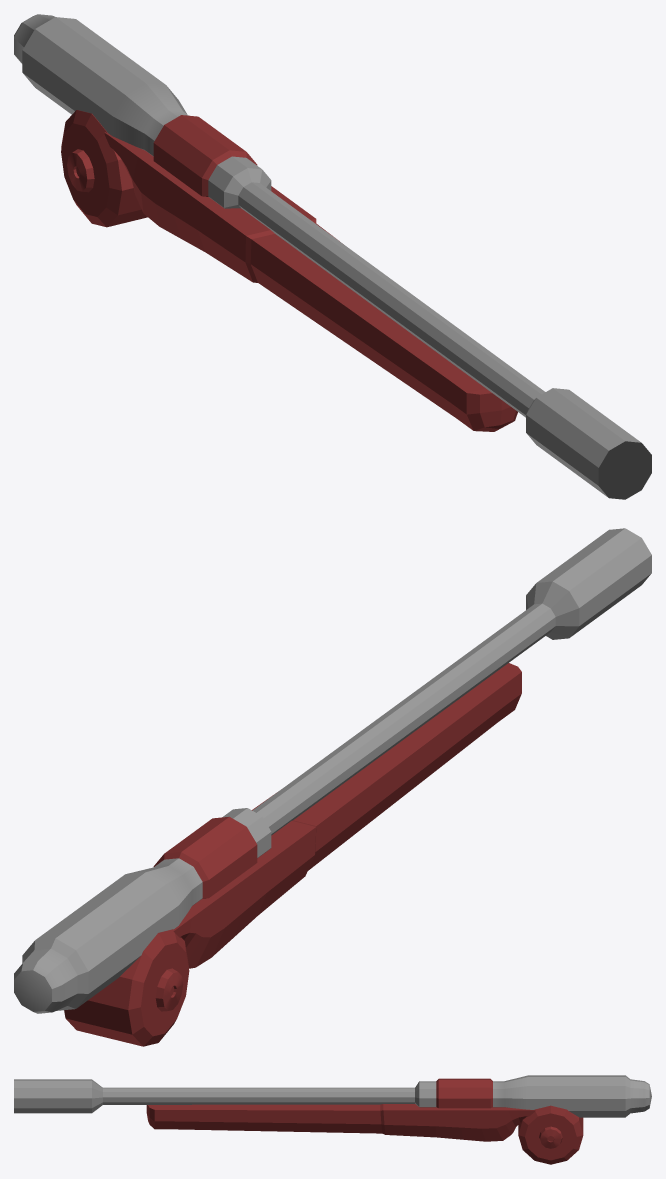
Rendered from PlayerSniper.fbx.
3 renders of one model, top to bottom at view 1: azimuth 30°, elevation 25°; view 2: azimuth 150°, elevation 25°; view 3: azimuth 270°, elevation 25°, orthographic. The views are drawn at different scales.
Parts seen in each view (by area): view 1: SniperRifle; view 2: SniperRifle; view 3: SniperRifle.
Part boxes in pixels (<box>): SniperRifle: <box>14,14,651,499</box>; SniperRifle: <box>14,528,651,1046</box>; SniperRifle: <box>14,1075,651,1164</box>.
Size of the model in its own units: 38.73 by 56.59 by 413.
